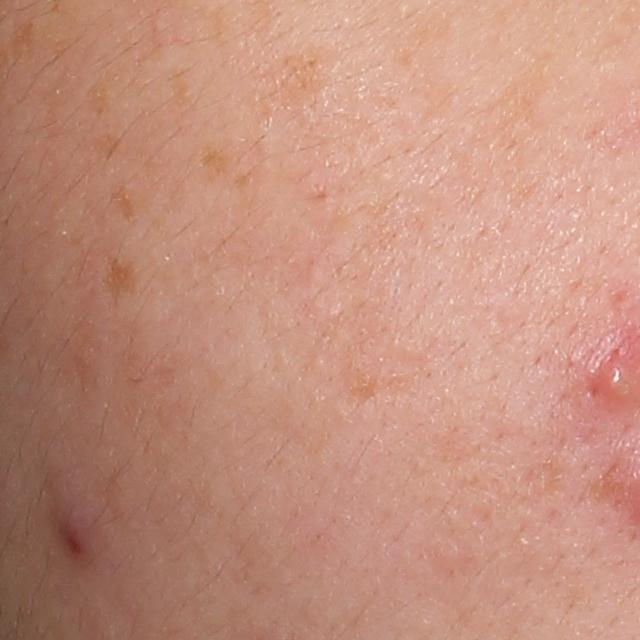melasma: (99, 250, 140, 311), (193, 139, 234, 187), (110, 181, 144, 231), (82, 68, 112, 118), (87, 130, 125, 163)
papule: (56, 510, 95, 562)
